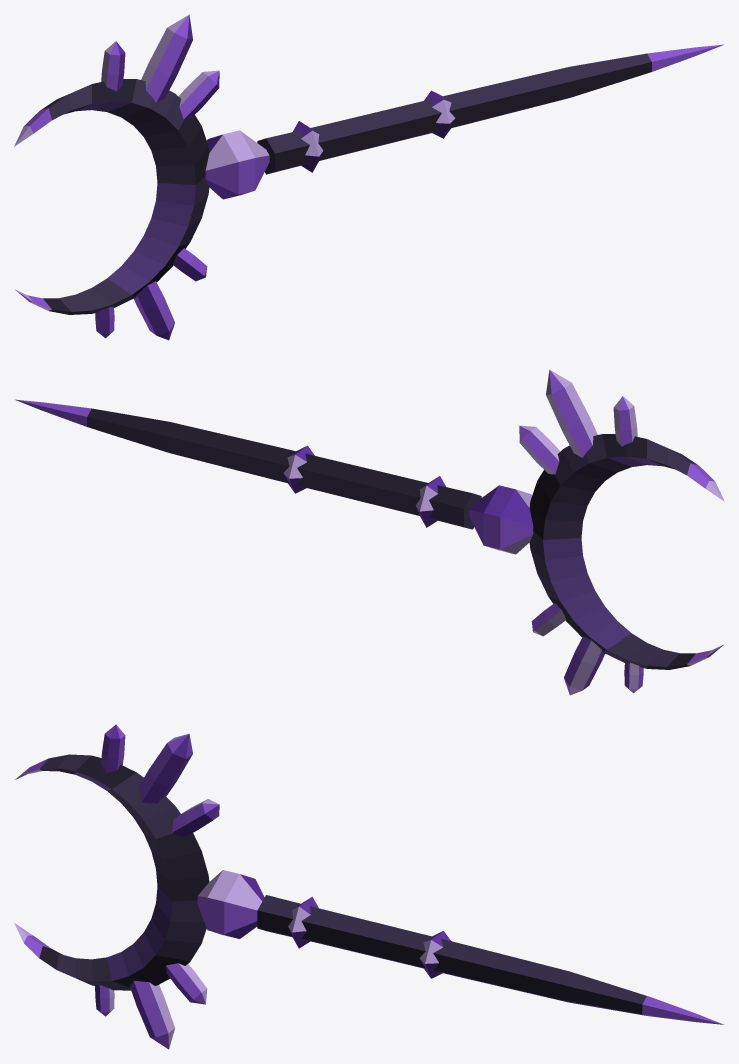
The model's file is needle_obsidian.glb.
The picture shows the model from 3 angles, top to bottom: view 1: azimuth 30°, elevation 25°; view 2: azimuth 150°, elevation 25°; view 3: azimuth 330°, elevation 25°; orthographic projection.
Visible parts, largest first — view 1: needle_obsidian; view 2: needle_obsidian; view 3: needle_obsidian.
Part boxes in pixels (bbox=[...]): needle_obsidian: bbox=[14, 14, 723, 340]; needle_obsidian: bbox=[15, 369, 724, 695]; needle_obsidian: bbox=[14, 724, 724, 1049].
Bounding box in the file's own units: 0.5935 × 0.2561 × 0.045.
